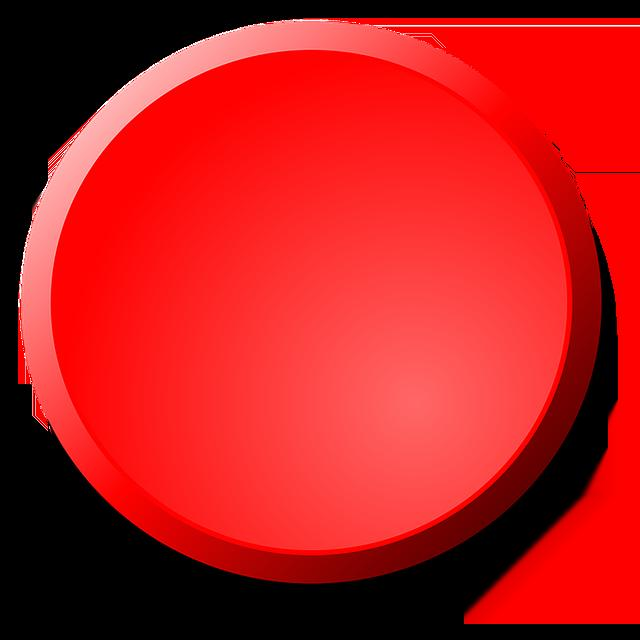red_circle: (3, 7, 633, 623)
